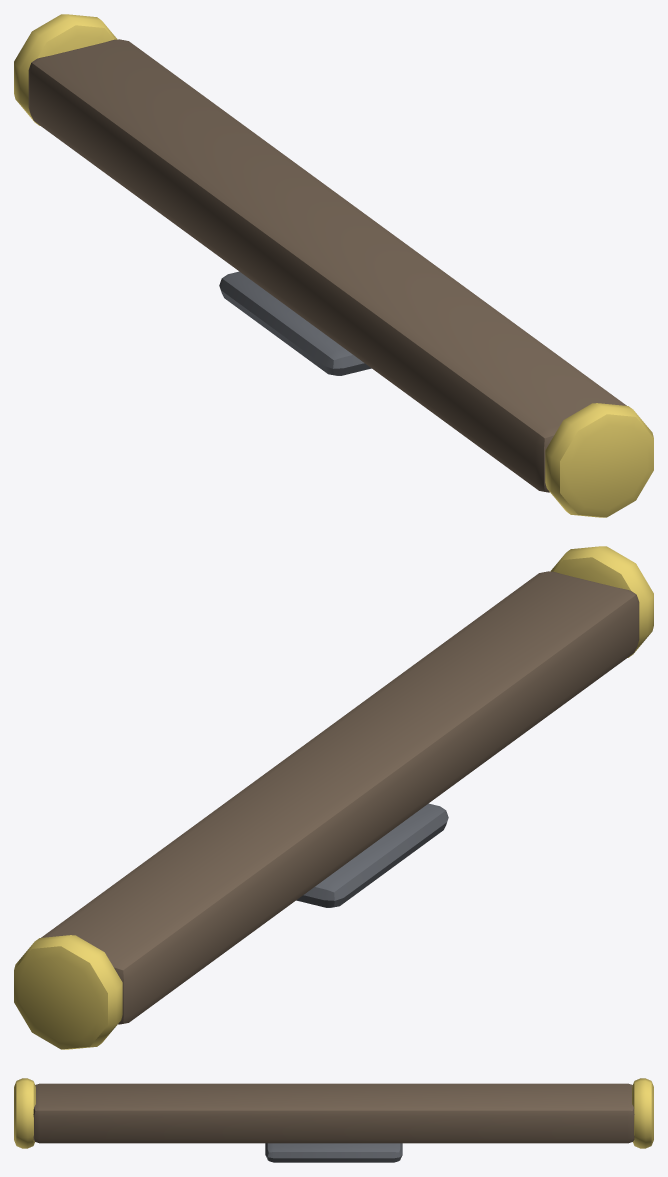
File: divider.glb
3 views of the same model, one above another, from view 1: azimuth 30°, elevation 25°; view 2: azimuth 150°, elevation 25°; view 3: azimuth 270°, elevation 25° (orthographic). The views are drawn at different scales.
Visible parts, largest first — view 1: divider; view 2: divider; view 3: divider.
Part boxes in pixels (x1,y1,x2,y2): divider: (14,14,653,517); divider: (14,546,653,1049); divider: (14,1078,653,1162).
Bounding box in the file's own units: 0.06 × 0.054 × 0.466.
